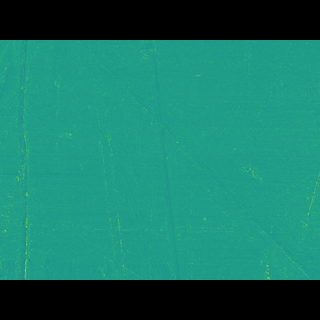Loch: (94, 88, 318, 250), (137, 69, 191, 250), (90, 112, 129, 251), (9, 69, 37, 249)
